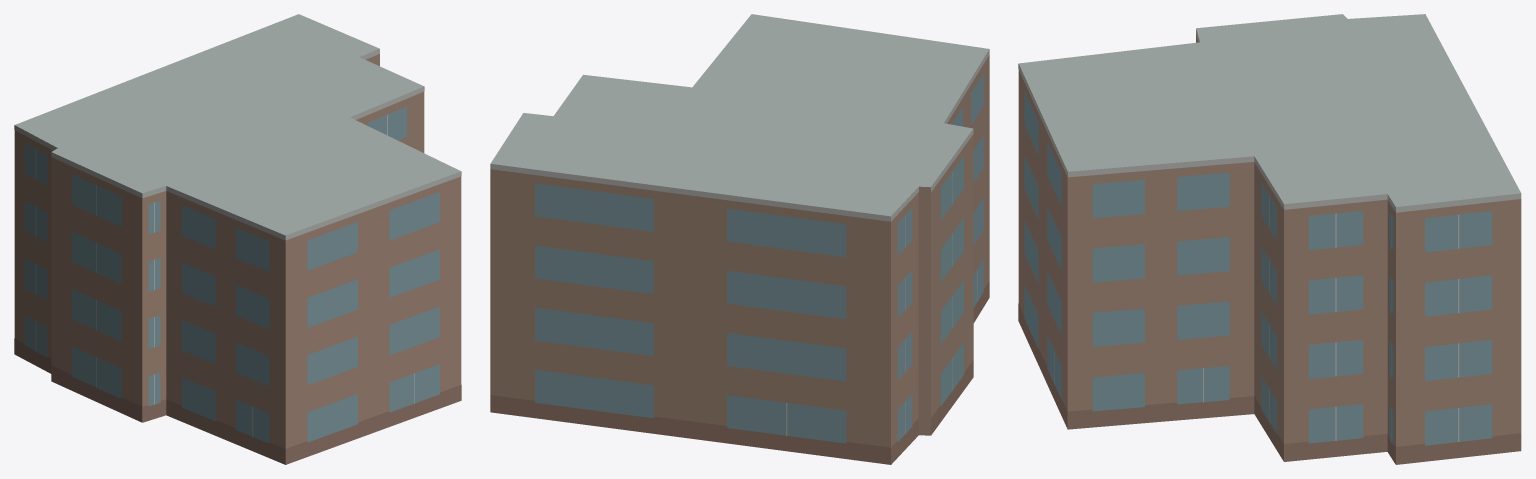
Rendered from survey-upis-32642909.glb.
3 views of the same model, side by side, from view 1: azimuth 30°, elevation 25°; view 2: azimuth 150°, elevation 25°; view 3: azimuth 270°, elevation 25° (orthographic). The views are drawn at different scales.
Parts seen in each view (by area): view 1: survey-upis-32642909.tmp; view 2: survey-upis-32642909.tmp; view 3: survey-upis-32642909.tmp.
Part boxes in pixels (x1,y1,x2,y2): survey-upis-32642909.tmp: (14, 14, 461, 464); survey-upis-32642909.tmp: (490, 14, 989, 464); survey-upis-32642909.tmp: (1018, 14, 1521, 464).
Bounding box in the file's own units: 18.18 × 11.3 × 19.99.
